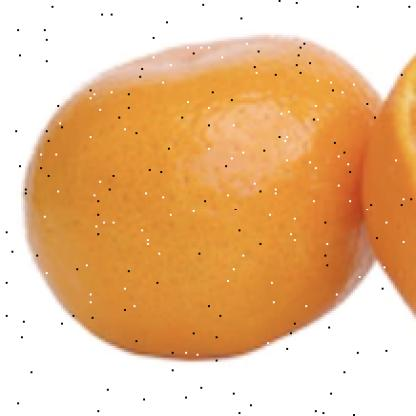fresh: (20, 37, 391, 362)
